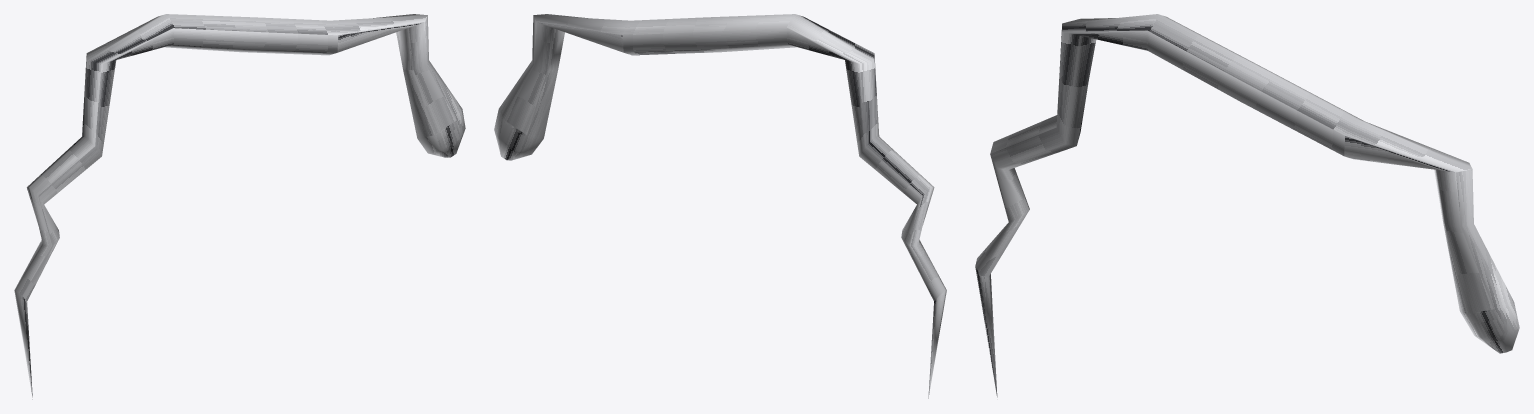
The model's file is snake_000044.obj.
3 views of the same model, side by side, from view 1: azimuth 30°, elevation 25°; view 2: azimuth 150°, elevation 25°; view 3: azimuth 330°, elevation 25° (orthographic). The views are drawn at different scales.
Visible parts, largest first — view 1: Cylinder; view 2: Cylinder; view 3: Cylinder.
Part boxes in pixels (box(x1,y1,x2,y2)): Cylinder: box(14, 14, 465, 399); Cylinder: box(494, 14, 946, 398); Cylinder: box(975, 14, 1519, 397).
Size of the model in its own units: 5.8 by 4.35 by 0.3671.
